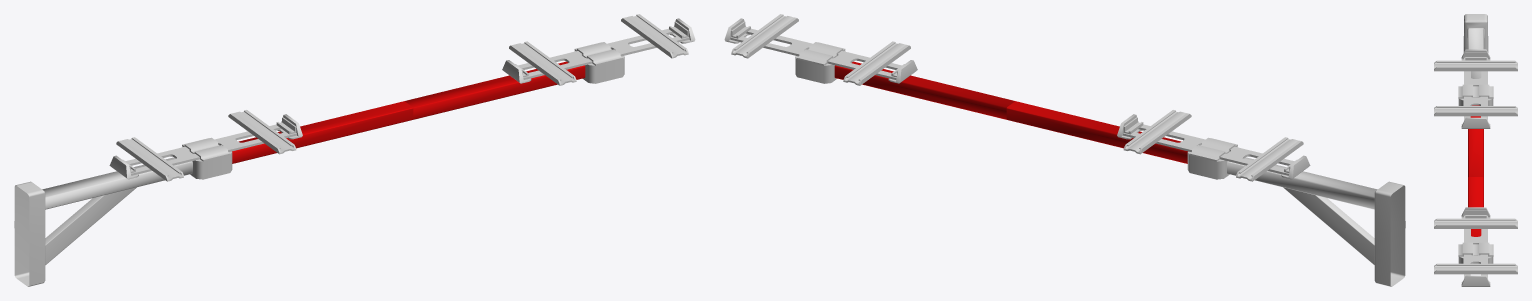
File: WallConveyor-13.fbx
3 views of the same model, side by side, from view 1: azimuth 30°, elevation 25°; view 2: azimuth 150°, elevation 25°; view 3: azimuth 270°, elevation 25° (orthographic). The views are drawn at different scales.
Parts seen in each view (by area): view 1: SM_CPWall-13_Pole, SM_CPWall-13_Strut_long, SM_CPWall-13, SM_CPWall-13_Strut_base; view 2: SM_CPWall-13_Pole, SM_CPWall-13_Strut_long, SM_CPWall-13, SM_CPWall-13_Strut_base; view 3: SM_CPWall-13_Pole, SM_CPWall-13_Strut_long, SM_CPWall-13, SM_CPWall-13_Strut_base.
Boxes of the visible parts, left/top/right/bottom form: SM_CPWall-13_Pole: left=109, top=14, right=695, bottom=181; SM_CPWall-13_Strut_long: left=232, top=61, right=585, bottom=163; SM_CPWall-13: left=14, top=181, right=136, bottom=286; SM_CPWall-13_Strut_base: left=42, top=157, right=192, bottom=209; SM_CPWall-13_Pole: left=724, top=14, right=1310, bottom=181; SM_CPWall-13_Strut_long: left=834, top=61, right=1187, bottom=163; SM_CPWall-13: left=1283, top=181, right=1405, bottom=286; SM_CPWall-13_Strut_base: left=1227, top=157, right=1377, bottom=209; SM_CPWall-13_Pole: left=1434, top=49, right=1517, bottom=286; SM_CPWall-13_Strut_long: left=1468, top=105, right=1483, bottom=236; SM_CPWall-13: left=1463, top=14, right=1488, bottom=52; SM_CPWall-13_Strut_base: left=1468, top=28, right=1483, bottom=78.
Bounding box in the file's own units: 677 × 95.2 × 89.92.
